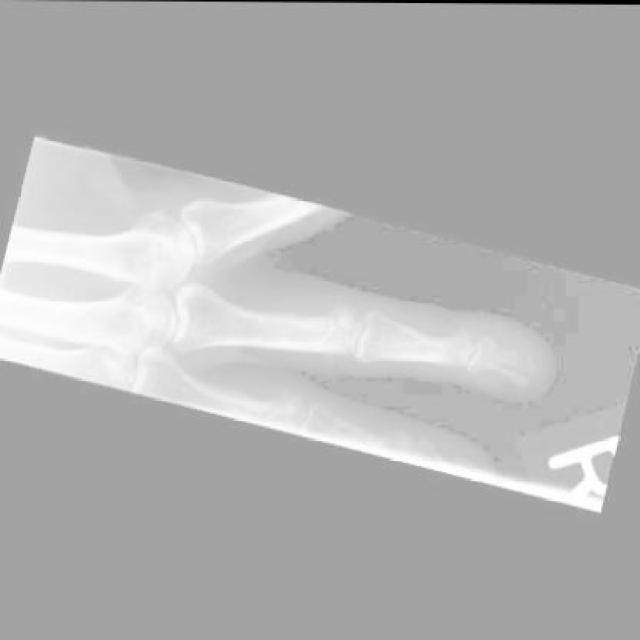Fracture: (492, 339, 548, 390)
